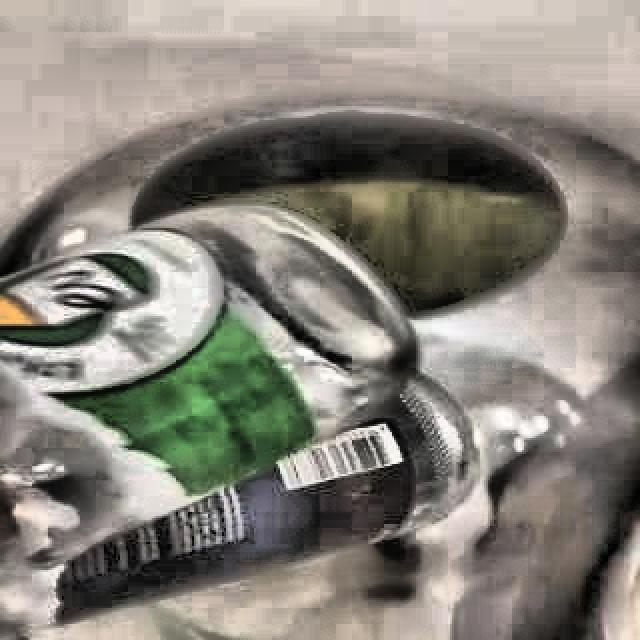glass: (0, 206, 475, 637)
